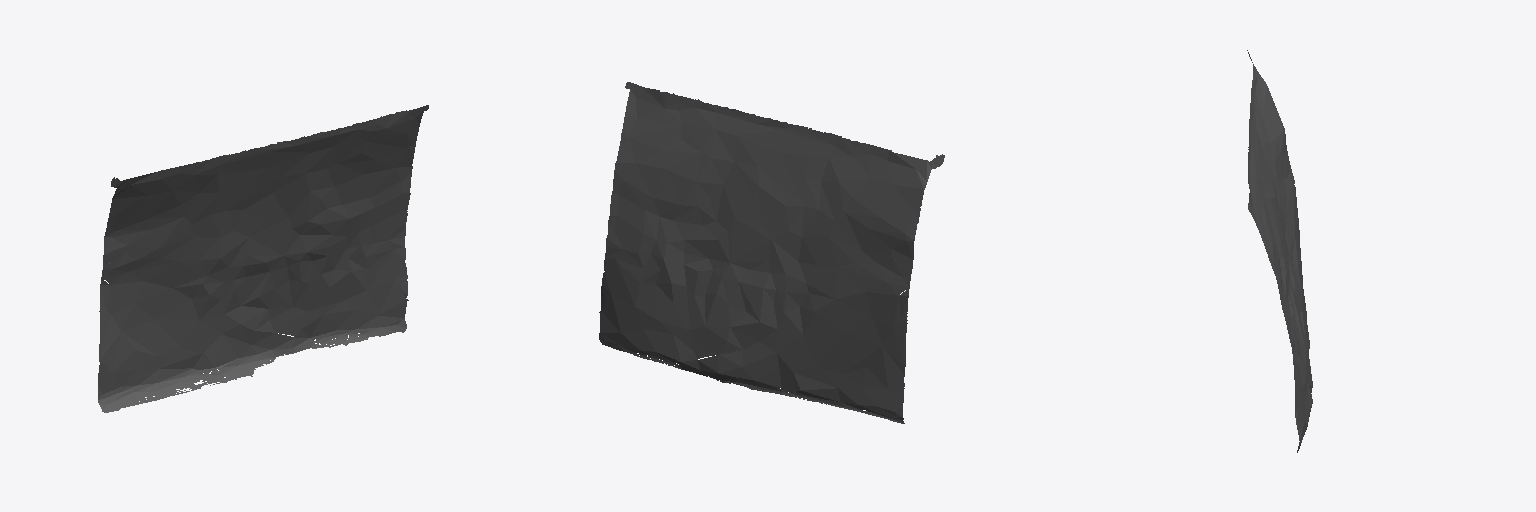
File: benderTwo.obj
3 renders of one model, left to right at view 1: azimuth 30°, elevation 25°; view 2: azimuth 150°, elevation 25°; view 3: azimuth 270°, elevation 25°, orthographic.
Visible parts, largest first — view 1: test; view 2: test; view 3: test.
Part boxes in pixels (x1,y1,x2,y2): test: (98, 105, 428, 412); test: (599, 82, 944, 423); test: (1247, 50, 1312, 452).
Size of the model in its own units: 22.97 by 17.63 by 4.09.